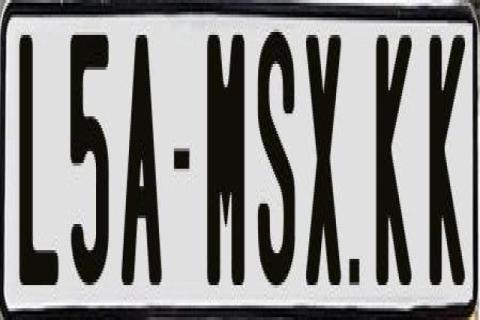0: (69, 35, 111, 303)
A: (122, 35, 164, 299)
K: (376, 35, 414, 299), (429, 32, 462, 294)
L: (18, 29, 58, 285)
M: (205, 35, 247, 303)
S: (256, 32, 294, 291)
X: (304, 29, 340, 279)
